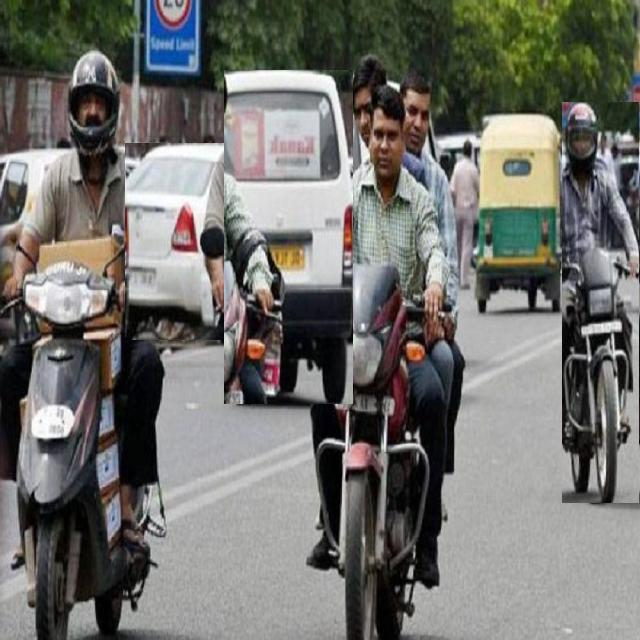autorickshaw: (475, 115, 561, 312)
car: (225, 71, 353, 404), (126, 144, 227, 340)
motorcycle: (0, 47, 167, 640), (299, 48, 464, 640), (562, 102, 640, 503)
